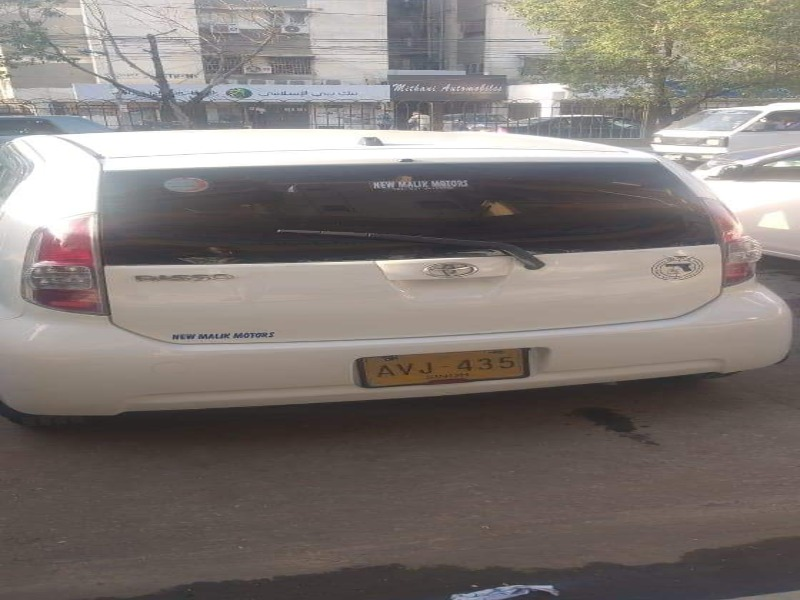License Plate: (356, 346, 536, 387)
